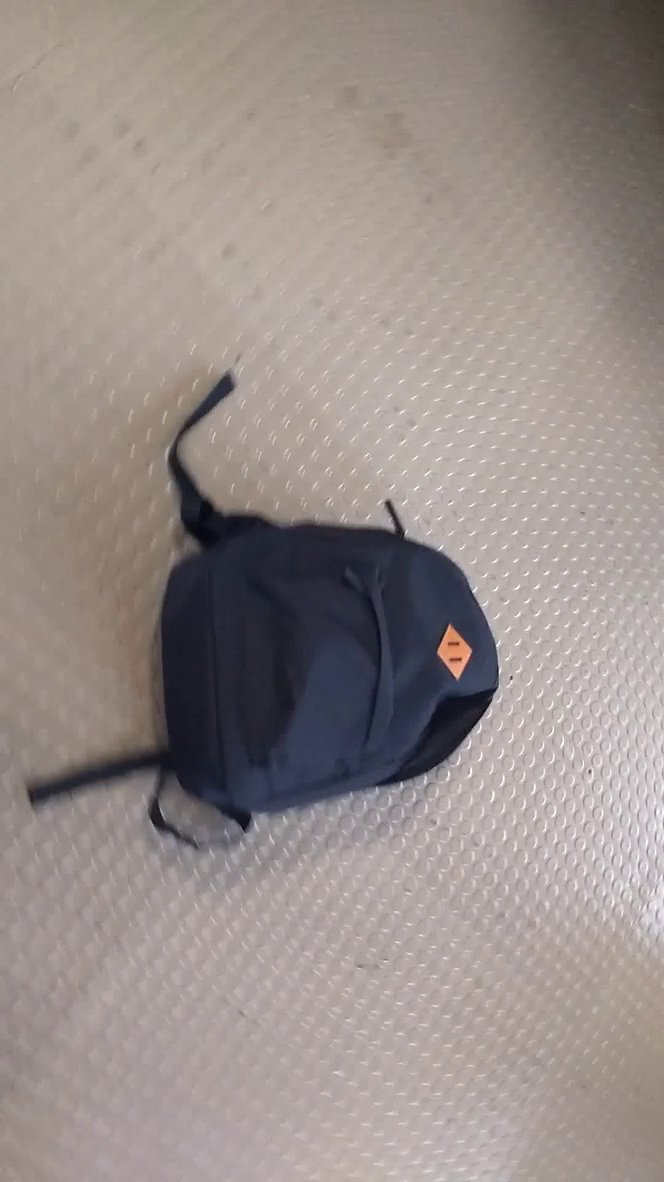bag: (3, 358, 518, 863)
